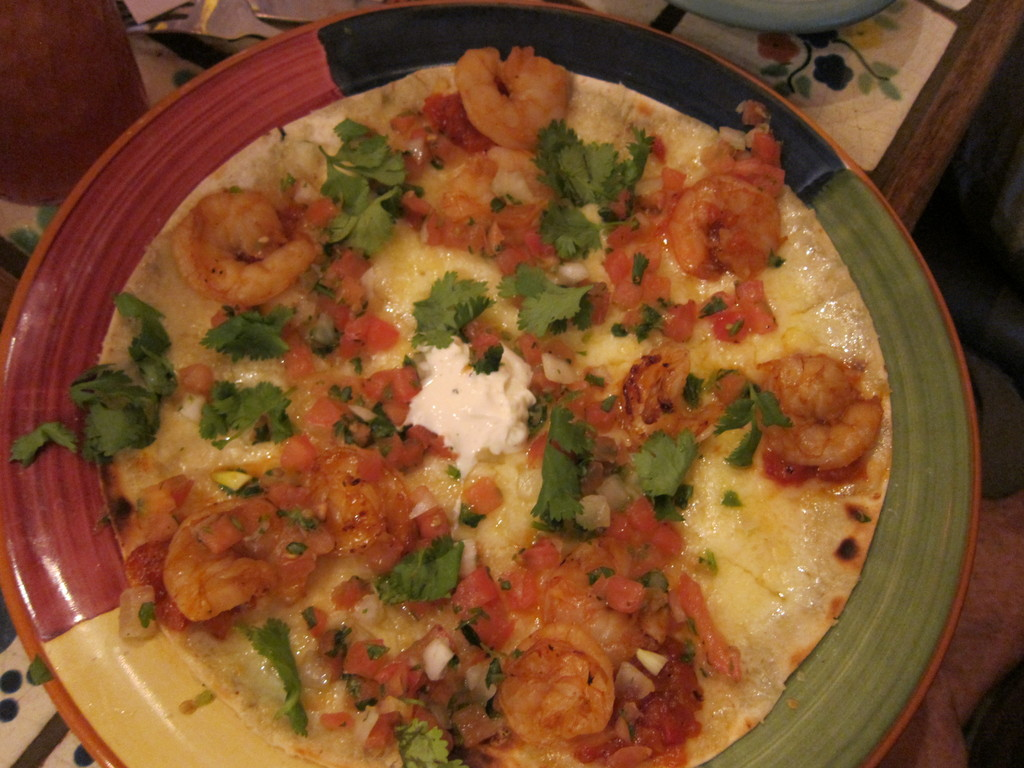Pizza: (85, 46, 894, 767)
